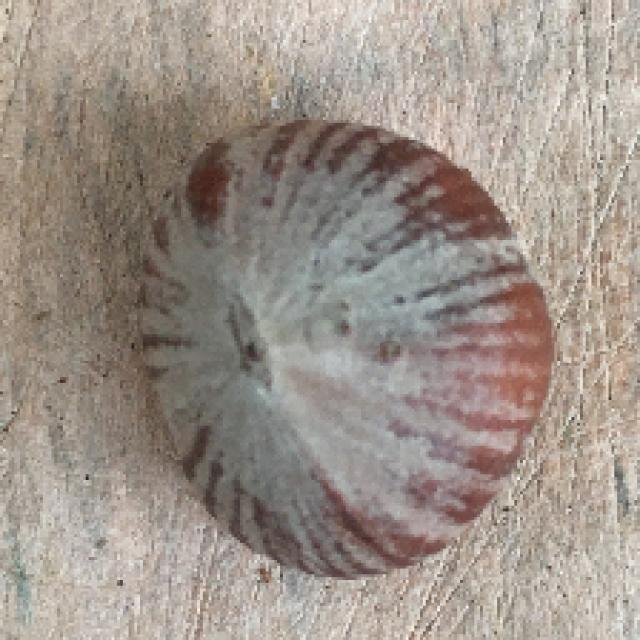qualityHazelnut: (123, 124, 556, 580)
